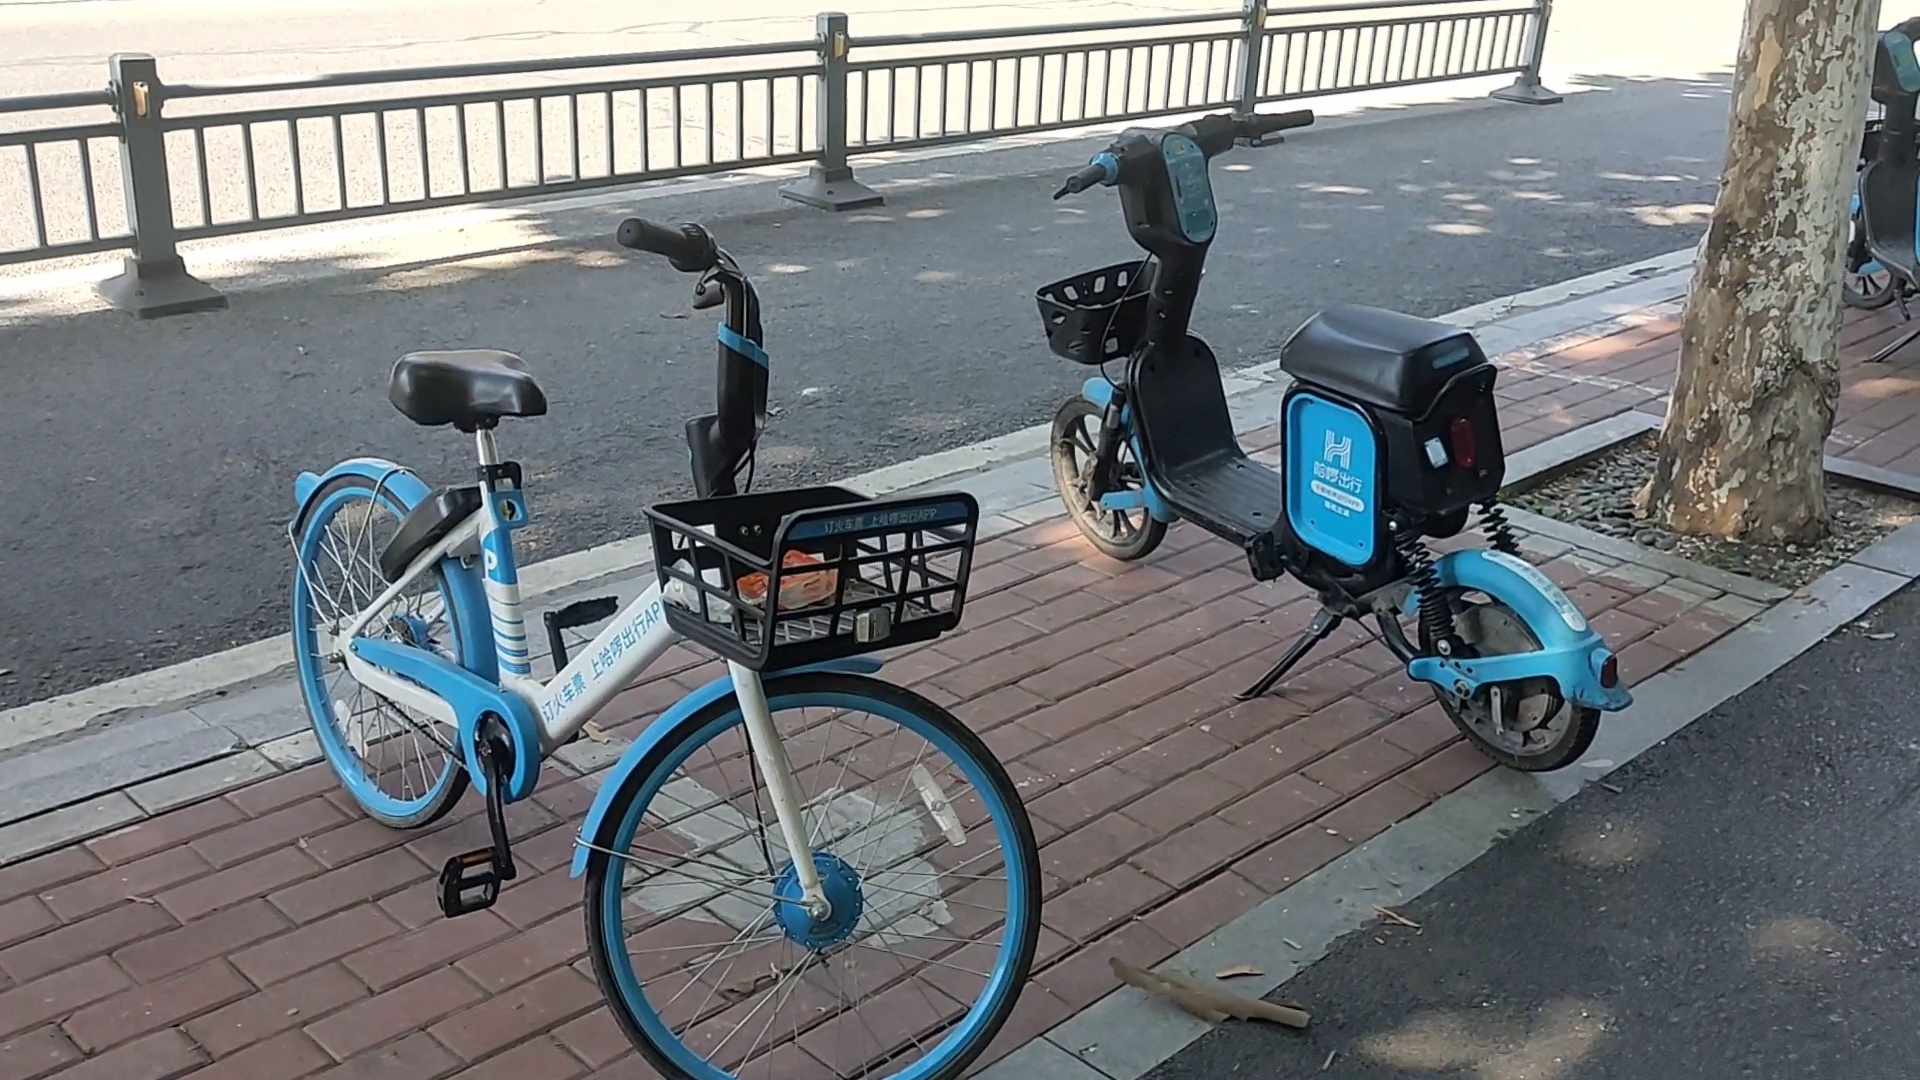non-vehicle: (284, 152, 1023, 1069), (1040, 80, 1614, 800)
